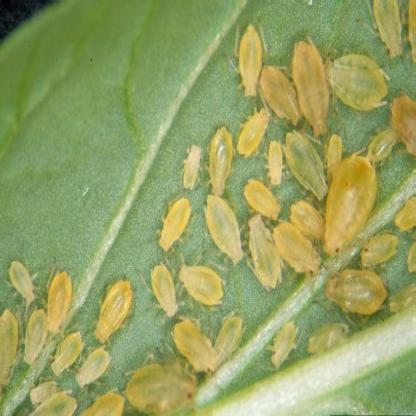aphid: (322, 151, 375, 258), (290, 44, 337, 139), (123, 357, 198, 412), (328, 50, 386, 116), (240, 213, 284, 293), (282, 130, 333, 199), (198, 194, 248, 262), (92, 270, 136, 344), (270, 219, 324, 278), (256, 61, 305, 124), (328, 265, 386, 318), (205, 123, 238, 200), (177, 260, 229, 308), (176, 319, 220, 375), (236, 103, 274, 162), (385, 91, 416, 163), (235, 19, 262, 101), (367, 1, 406, 57), (210, 314, 252, 364), (46, 265, 74, 337), (287, 195, 330, 239), (0, 308, 21, 396), (160, 196, 193, 252), (240, 177, 284, 219), (7, 259, 42, 309), (306, 321, 356, 356), (148, 262, 181, 315), (78, 338, 112, 386), (24, 310, 49, 372), (50, 330, 82, 378), (270, 316, 300, 367), (82, 383, 125, 416), (359, 230, 399, 265), (264, 137, 286, 191), (31, 392, 78, 416), (368, 126, 395, 166), (182, 140, 204, 189), (396, 190, 416, 242), (27, 378, 63, 405), (390, 282, 416, 317), (406, 237, 416, 278)
